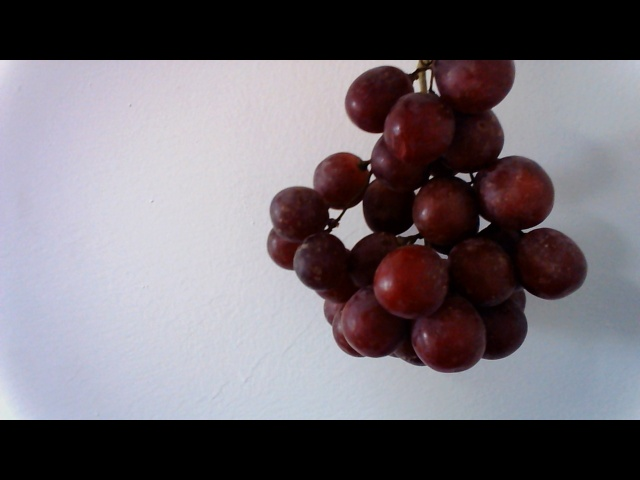grape: (253, 68, 589, 372)
